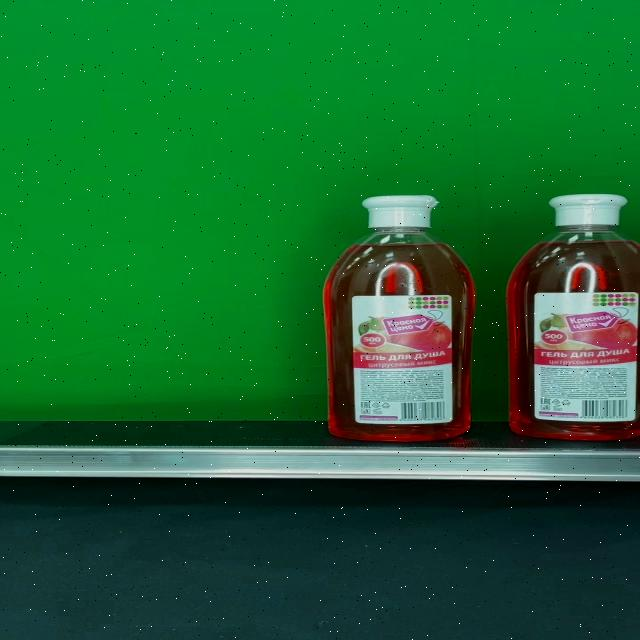Bottle: (323, 194, 476, 441), (506, 193, 640, 440)
Cap: (362, 195, 440, 229), (548, 194, 630, 226)
